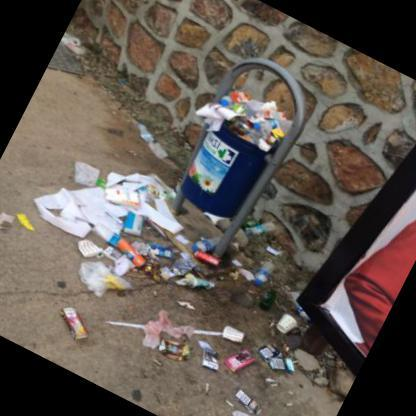Garbage: (41, 247, 313, 415), (22, 138, 172, 308), (0, 127, 158, 274), (106, 268, 272, 404), (74, 214, 210, 321), (203, 78, 290, 152), (234, 223, 304, 300), (245, 335, 296, 378), (250, 104, 294, 148), (214, 97, 260, 139), (264, 309, 298, 342)
